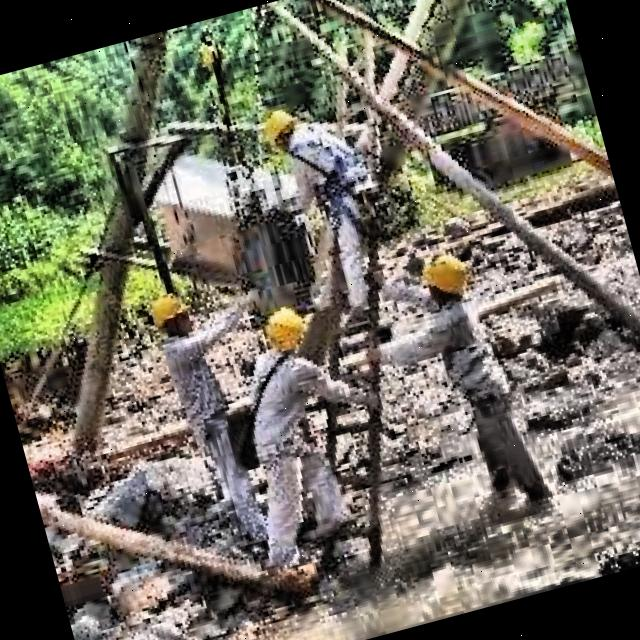helmet: (413, 244, 478, 309), (144, 284, 205, 351), (257, 298, 314, 359), (255, 102, 308, 157)
